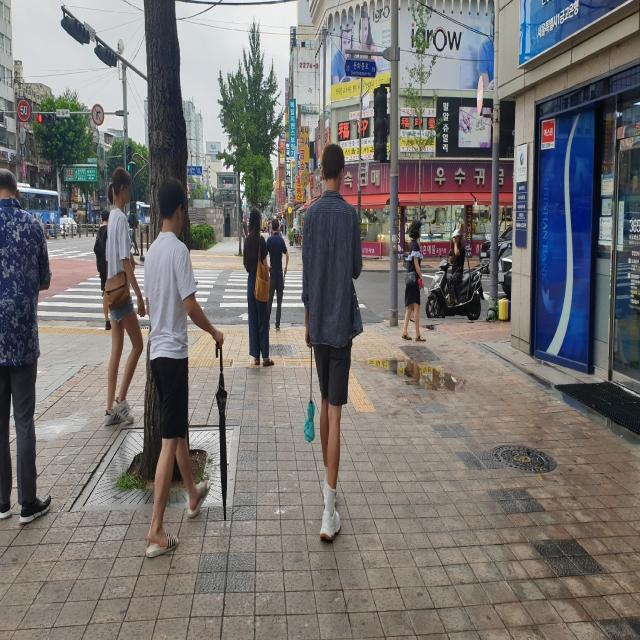횡단보도: (36, 266, 368, 322)
